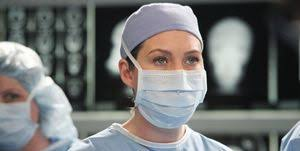masked: (115, 9, 212, 131)
